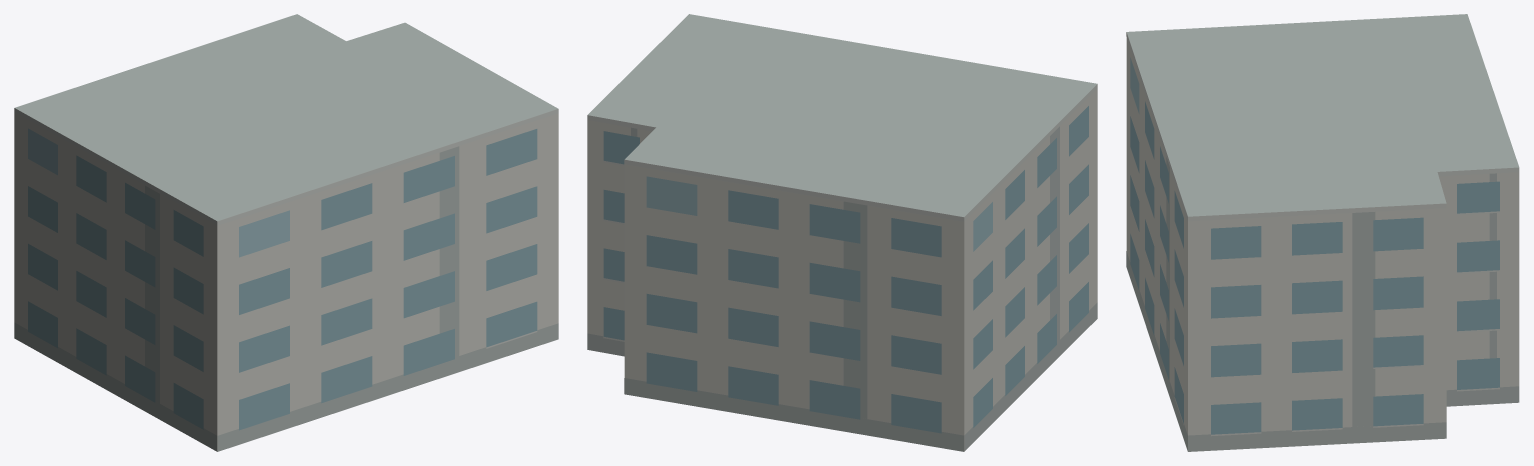
The model's file is survey-upis-32979595.glb.
3 views of the same model, side by side, from view 1: azimuth 30°, elevation 25°; view 2: azimuth 150°, elevation 25°; view 3: azimuth 270°, elevation 25° (orthographic). The views are drawn at different scales.
Visible parts, largest first — view 1: survey-upis-32979595.tmp; view 2: survey-upis-32979595.tmp; view 3: survey-upis-32979595.tmp.
Part boxes in pixels (x1=…): survey-upis-32979595.tmp: x1=14, y1=14, x2=558, y2=451; survey-upis-32979595.tmp: x1=587, y1=14, x2=1097, y2=451; survey-upis-32979595.tmp: x1=1126, y1=14, x2=1519, y2=451.
Size of the model in its own units: 22.56 by 12.2 by 18.48.
